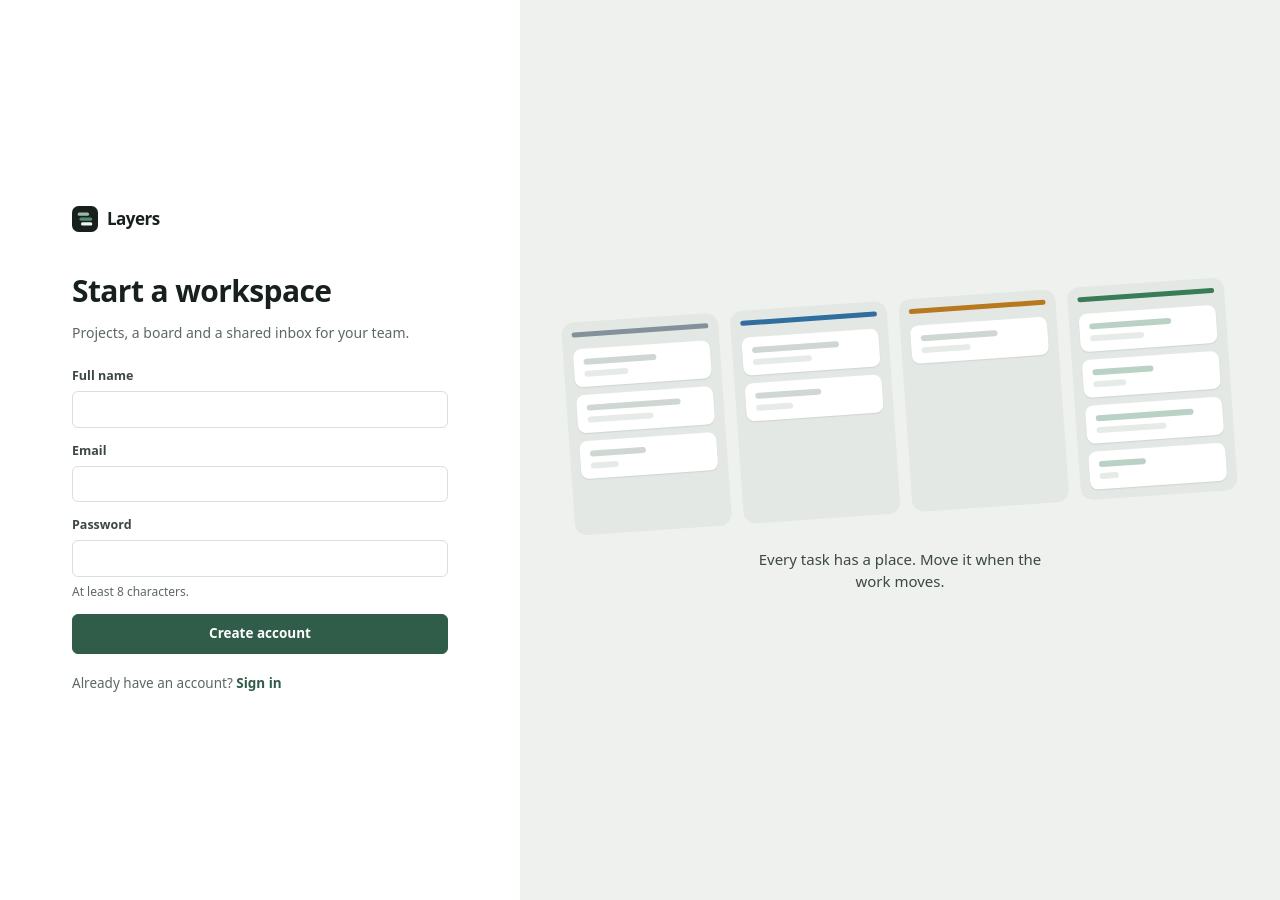
Test: AuthPage › validates before calling the API
What coordinates should you click on to do the following:
click the button "Create account"
I would click on:
 (260, 634)
Its box is x1=72 y1=614 x2=448 y2=654.
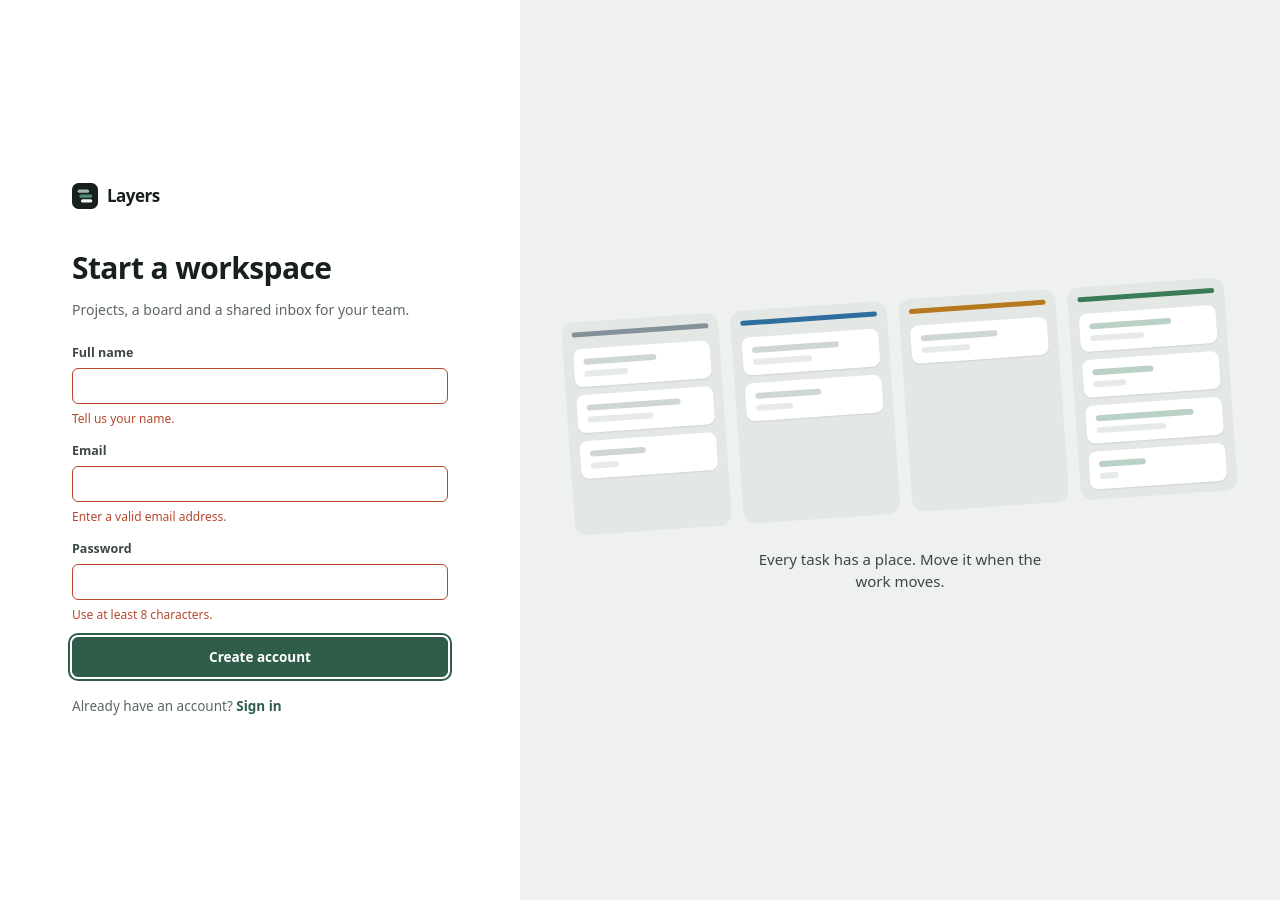
Result: the text "Tell us your name." is shown at x1=72 y1=410 x2=174 y2=427
Result: the text "Enter a valid email address." is shown at x1=72 y1=508 x2=226 y2=525
Result: the text "Use at least 8 characters." is shown at x1=72 y1=606 x2=212 y2=623
